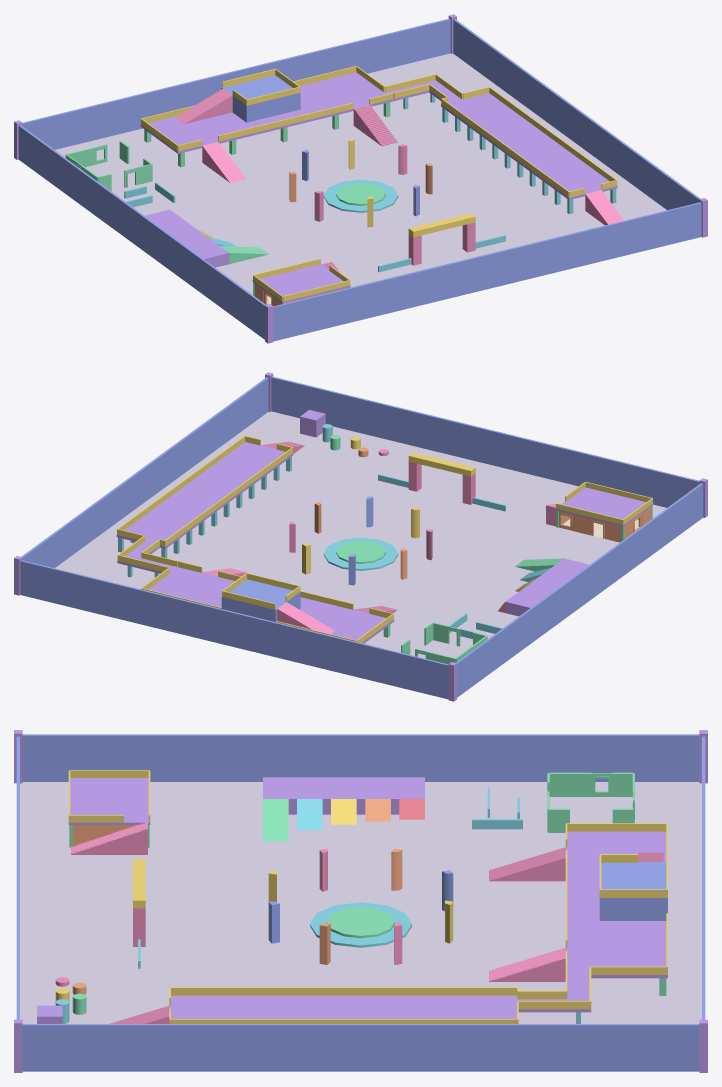
File: level02.glb
3 renders of one model, top to bottom at view 1: azimuth 30°, elevation 25°; view 2: azimuth 150°, elevation 25°; view 3: azimuth 270°, elevation 25°, orthographic. The views are drawn at different scales.
Visible parts, largest first — view 1: Ground, Colonnade_Roof, Platform_Deck, Platform_Tower, RampPark_Plateau, House_Roof, Plaza_Dais_Low, Platform_TowerRamp, Platform_Ramp, Plaza_Dais_High, Colonnade_Ramp, Boundary_S_12 (+35 smaller); view 2: Ground, Colonnade_Roof, Platform_Deck, Platform_Tower, RampPark_Plateau, House_Roof, Plaza_Dais_Low, Plaza_Dais_High, Boundary_N_12, Boundary_S_15, Boundary_N_04, Boundary_S_07 (+38 smaller); view 3: Ground, Platform_Deck, Colonnade_Roof, RampPark_Plateau, Platform_Tower, House_Roof, Platform_Ramp, Plaza_Dais_Low, Boundary_E_02, Boundary_E_03, Boundary_E_04, Boundary_E_05 (+46 smaller).
Boxes of the visible parts, x1,y1,x2,y2 form: Ground: [55, 53, 666, 294]; Colonnade_Roof: [441, 93, 617, 199]; Platform_Deck: [140, 72, 394, 153]; Platform_Tower: [221, 75, 300, 122]; RampPark_Plateau: [145, 209, 229, 267]; House_Roof: [252, 264, 350, 303]; Plaza_Dais_Low: [323, 179, 398, 212]; Platform_TowerRamp: [175, 89, 232, 124]; Platform_Ramp: [202, 142, 246, 183]; Plaza_Dais_High: [336, 183, 385, 205]; Colonnade_Ramp: [585, 190, 623, 225]; Boundary_S_12: [507, 244, 530, 283]; Ground: [55, 411, 666, 658]; Colonnade_Roof: [116, 442, 293, 548]; Platform_Deck: [148, 567, 394, 643]; Platform_Tower: [221, 579, 300, 621]; RampPark_Plateau: [505, 558, 589, 616]; House_Roof: [555, 487, 653, 526]; Plaza_Dais_Low: [323, 537, 398, 570]; Plaza_Dais_High: [336, 541, 385, 563]; Boundary_N_12: [191, 602, 214, 641]; Boundary_S_15: [377, 402, 400, 442]; Boundary_N_04: [364, 644, 386, 683]; Boundary_S_07: [550, 445, 572, 484]; Ground: [20, 782, 701, 1023]; Platform_Deck: [565, 831, 667, 978]; Colonnade_Roof: [169, 995, 517, 1018]; RampPark_Plateau: [263, 777, 424, 814]; Platform_Tower: [599, 862, 667, 920]; House_Roof: [68, 778, 150, 824]; Platform_Ramp: [489, 847, 565, 881]; Plaza_Dais_Low: [310, 902, 411, 947]; Boundary_E_02: [54, 1024, 88, 1071]; Boundary_E_03: [88, 1024, 122, 1071]; Boundary_E_04: [122, 1024, 156, 1071]; Boundary_E_05: [156, 1024, 190, 1071].
Size of the model in its own units: 81.4 by 7 by 81.4.
